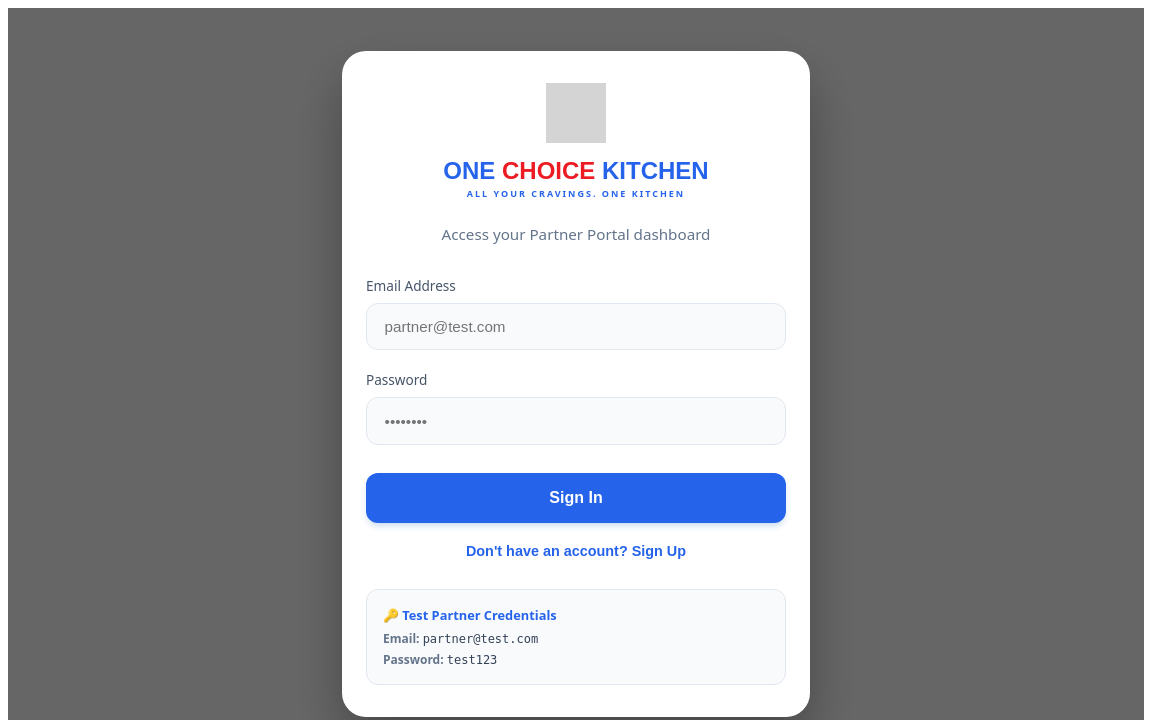
Test case: Partner Portal Critical Paths › should show validation errors on empty submit
Click the button "Sign In" at (576, 498), box [366,473,786,523]
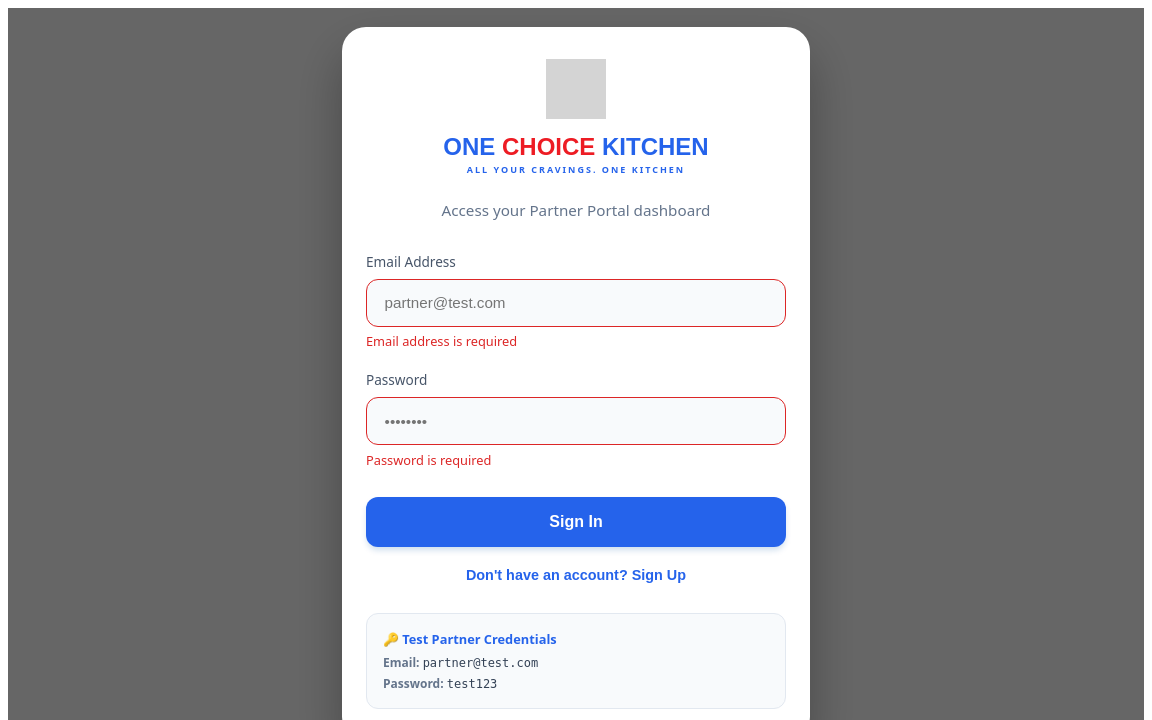
Expected: the text "Email address is required" is shown, [366,332,517,350]
Expected: the text "Password is required" is shown, [366,451,491,469]
